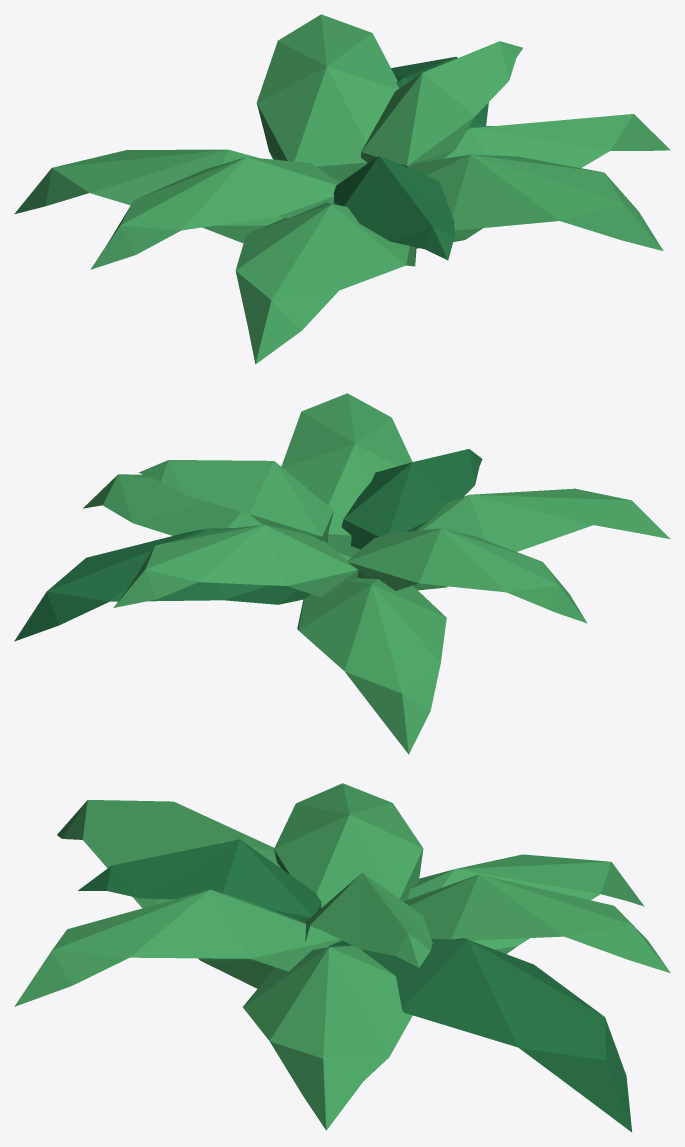
The model's file is SM_Env_Plant_02-optimized.glb.
3 views of the same model, one above another, from view 1: azimuth 30°, elevation 25°; view 2: azimuth 150°, elevation 25°; view 3: azimuth 270°, elevation 25° (orthographic). The views are drawn at different scales.
Parts seen in each view (by area): view 1: SM_Env_Plant_02; view 2: SM_Env_Plant_02; view 3: SM_Env_Plant_02.
Part boxes in pixels (x1,y1,x2,y2): SM_Env_Plant_02: (14,14,670,364); SM_Env_Plant_02: (14,393,670,754); SM_Env_Plant_02: (14,783,670,1132).
Bounding box in the file's own units: 2.46 × 0.6862 × 2.22.
Materials: 1 (1 with a texture image).
